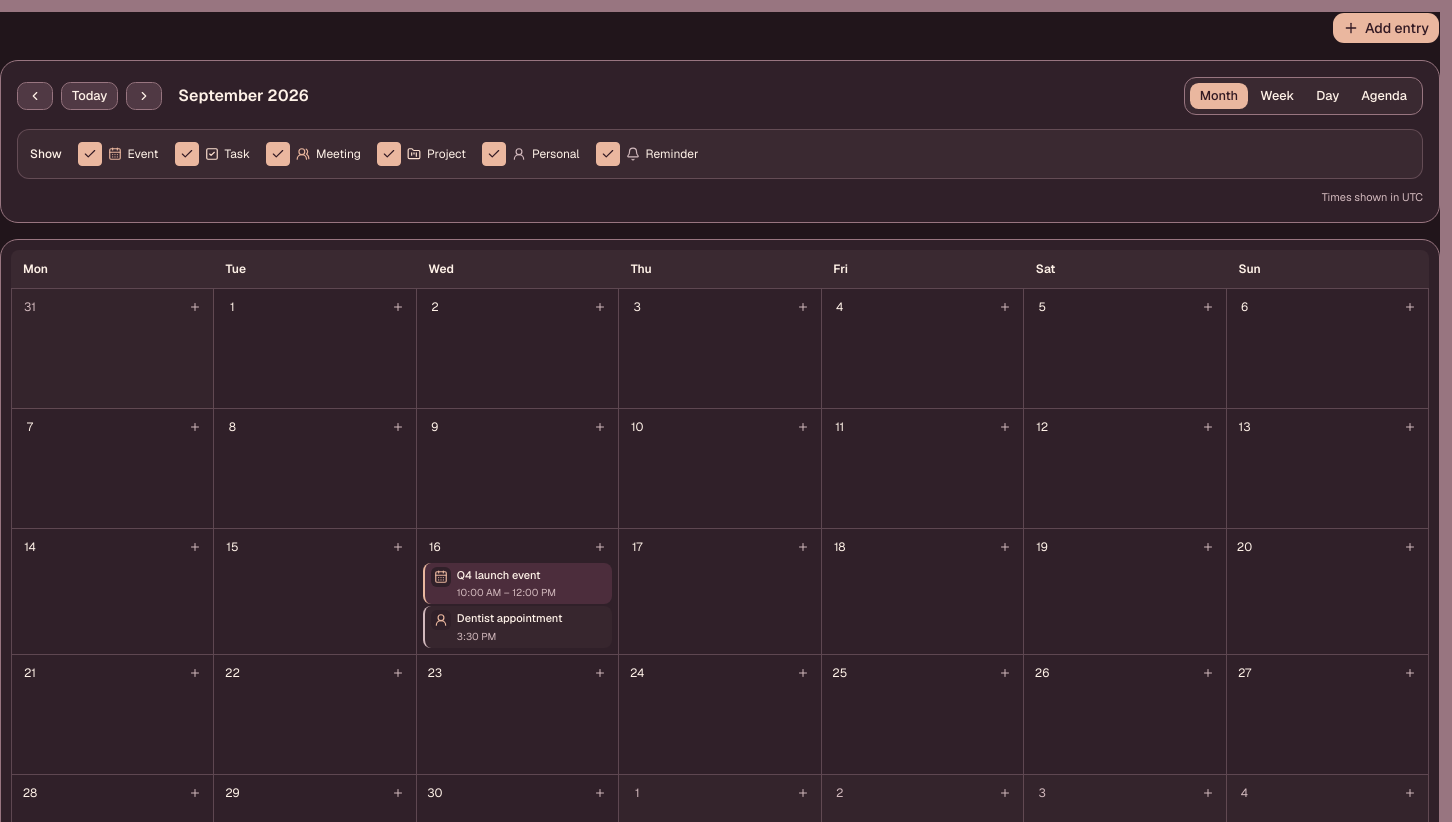
CalendarManager › hides a type's entries when its filter is unchecked
Expected: the text "Q4 launch event" is shown, [457, 568, 541, 582]
Click the checkbox named "Event entries": click(90, 154) [78, 142, 102, 166]
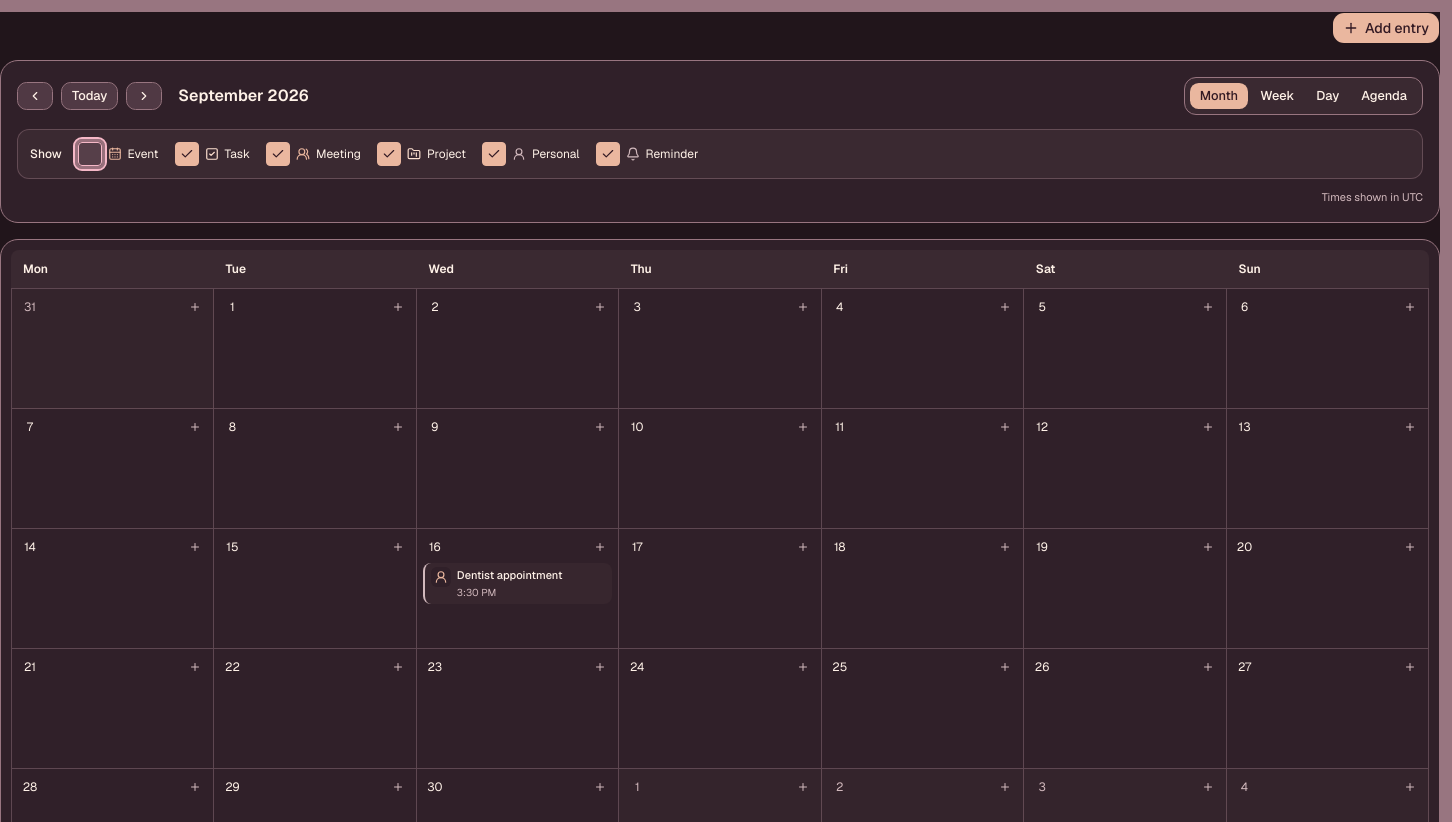
Expected: the text "Dentist appointment" is shown, [457, 568, 562, 582]
Expected: the button "Q4 launch event" is gone
